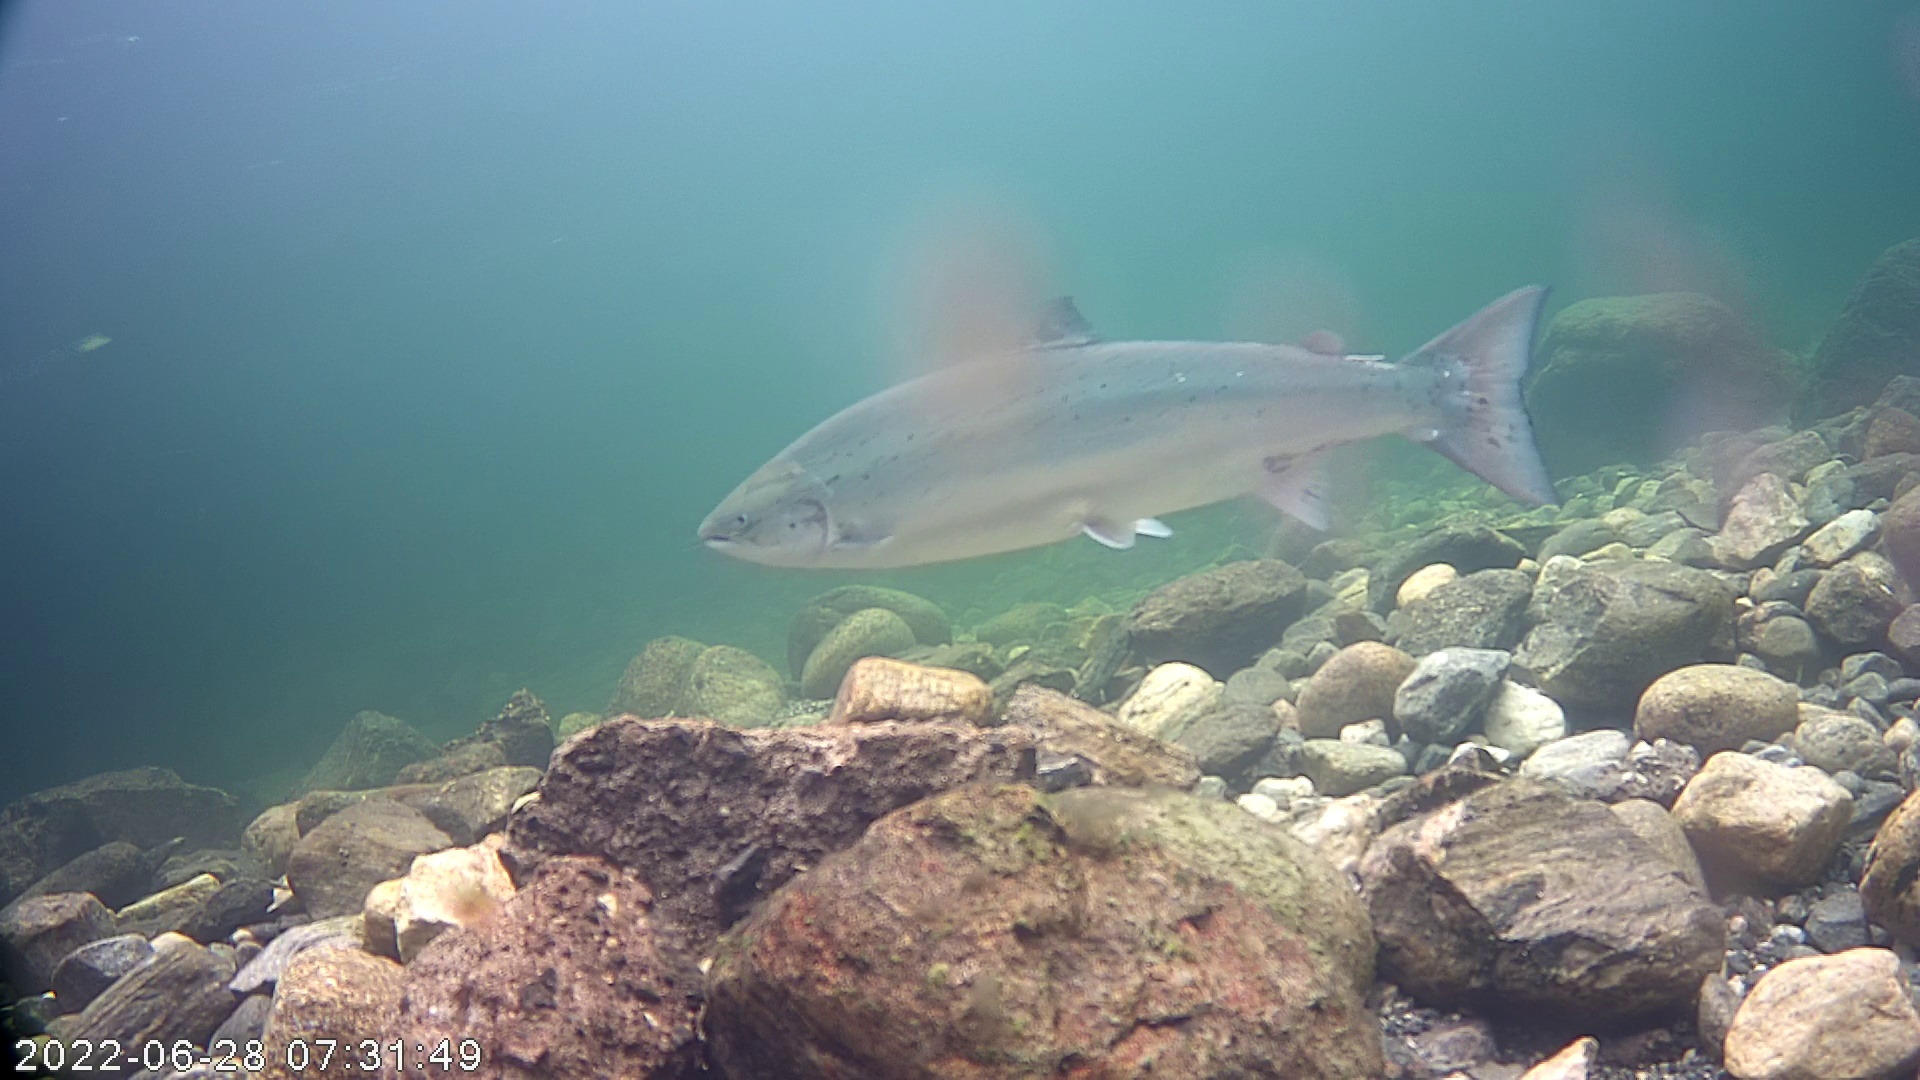salmon: (695, 211, 1578, 618)
